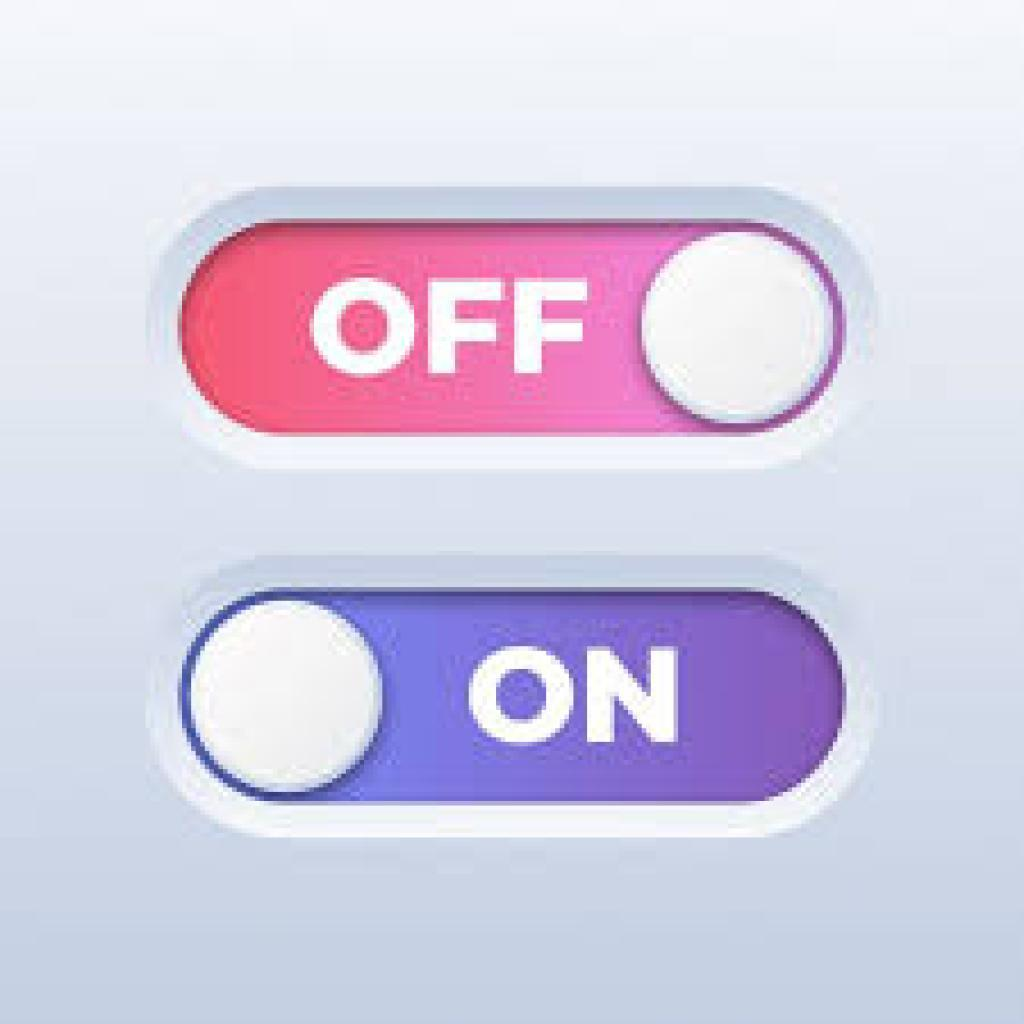switch: (154, 555, 877, 850), (148, 190, 884, 460)
